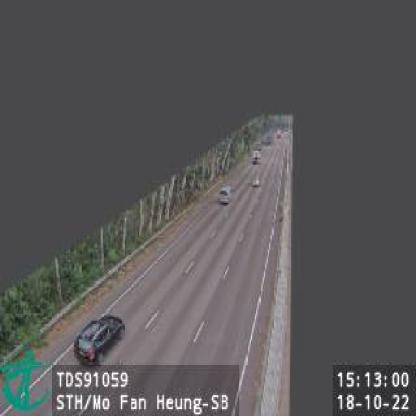Car: (74, 314, 125, 364), (219, 187, 234, 205), (250, 150, 260, 167), (251, 178, 261, 188)
